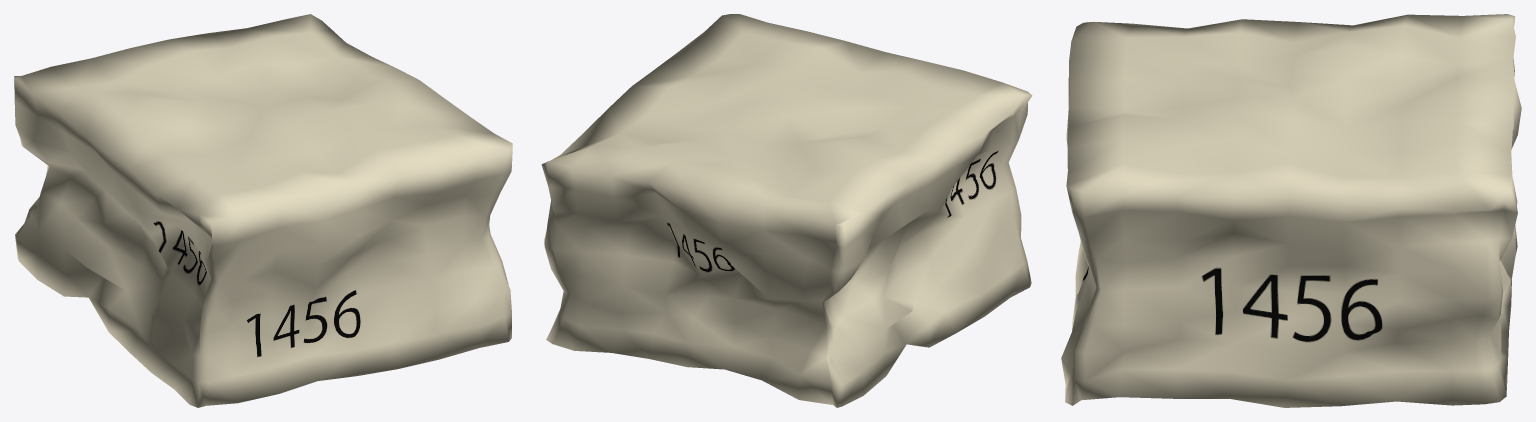
Rendered from CTB_1456.dae.
3 renders of one model, left to right at view 1: azimuth 30°, elevation 25°; view 2: azimuth 150°, elevation 25°; view 3: azimuth 270°, elevation 25°, orthographic. The views are drawn at different scales.
Parts seen in each view (by area): view 1: Cube; view 2: Cube; view 3: Cube.
Boxes of the visible parts, box(x1,y1,x2,y2) form: Cube: box(14, 14, 512, 407); Cube: box(541, 14, 1032, 407); Cube: box(1061, 14, 1521, 407).
Size of the model in its own units: 1.85 by 2.05 by 1.18.
Materials: 1 (1 with a texture image).
